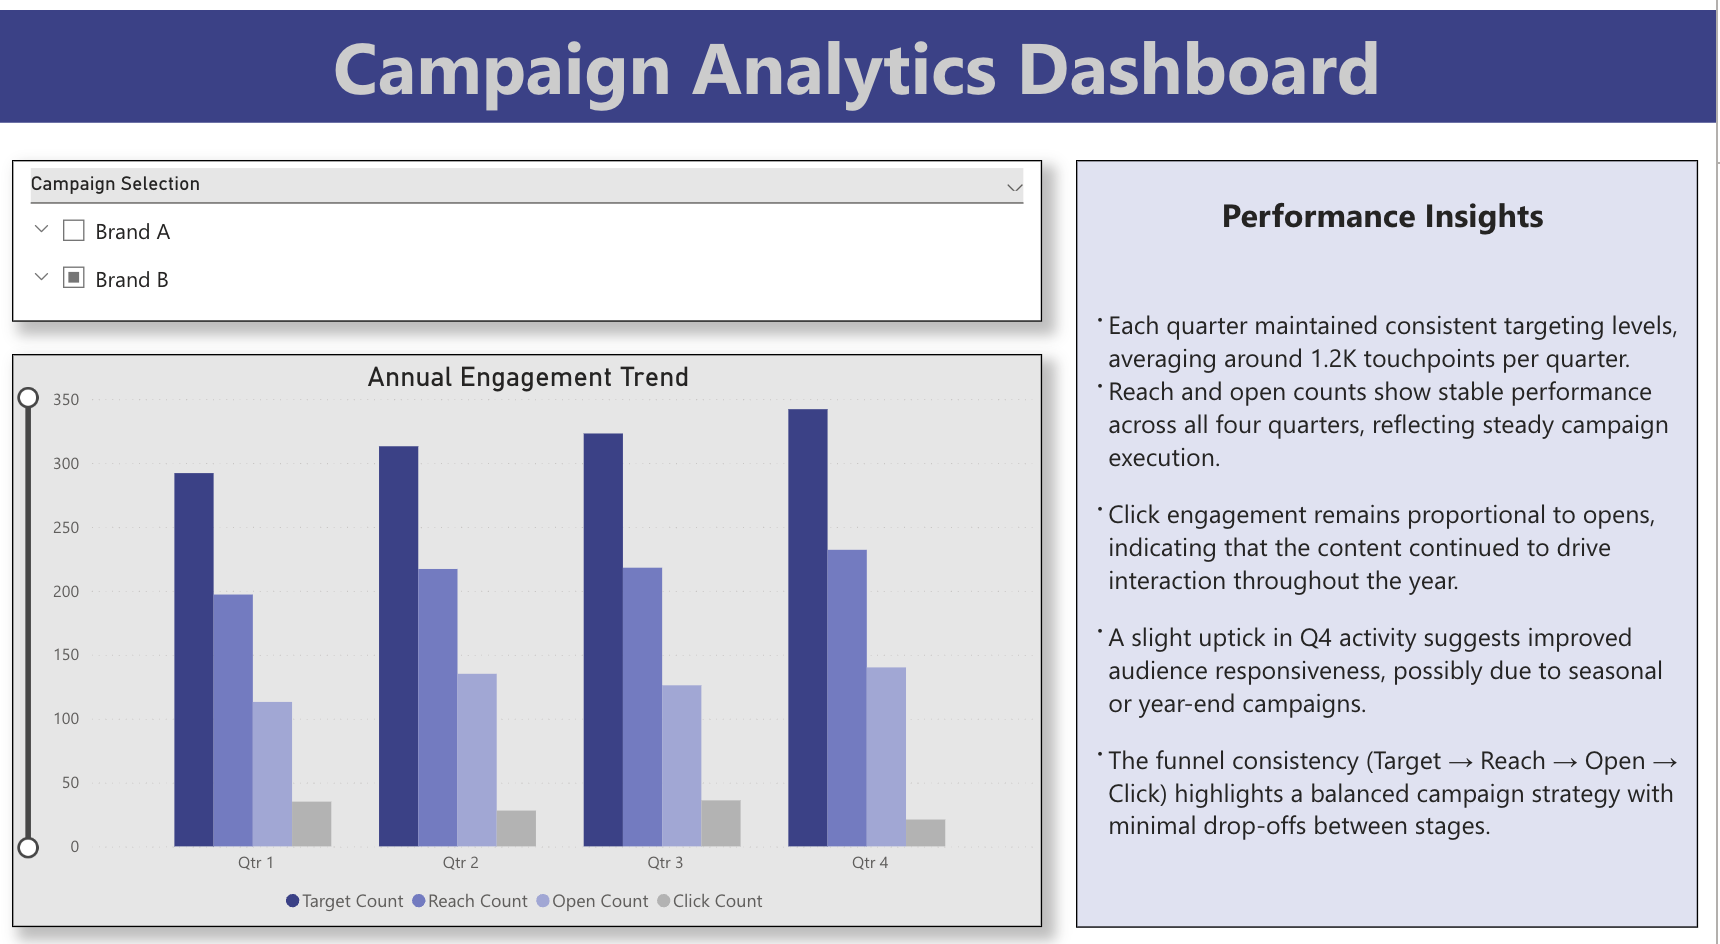

The dashboard page shown, as its layout file describes it:
{"tool":"powerbi","page":{"name":"Annual Trend","canvas":[1280,720],"ordinal":1},"visuals":[{"type":"clusteredColumnChart","title":"Annual Engagement Trend","fields":{"Category":["campaign_data.date of campaign.Variation.Date Hierarchy.Quarter"],"Y":["Sum(campaign_data.target (1 or 0))","Sum(campaign_data.reach (1 or 0))","Sum(campaign_data.open (1 or 0))","Sum(campaign_data.click (1 or 0))"]},"box":[10.7,268.5,767.4,427.2],"z":0},{"type":"textbox","box":[0,12.2,1280,84],"z":1001},{"type":"slicer","fields":{"Values":["campaign_data.brand name","campaign_data.campaign name"]},"box":[10.7,123.6,767.4,120.5],"z":1002},{"type":"textbox","box":[803.2,123.7,463.4,572.2],"z":1003}]}

Visuals, with their boxes in screenshot pixels (x1, y1, x2, y2), scaled from the page's 1280x720 canvas onto the 1720x944 screenshot:
"Annual Engagement Trend" clusteredColumnChart: select_region(14, 352, 1046, 912)
textbox: select_region(0, 16, 1719, 126)
slicer - campaign_data.brand name x campaign_data.campaign name: select_region(14, 162, 1046, 320)
textbox: select_region(1079, 162, 1702, 912)
